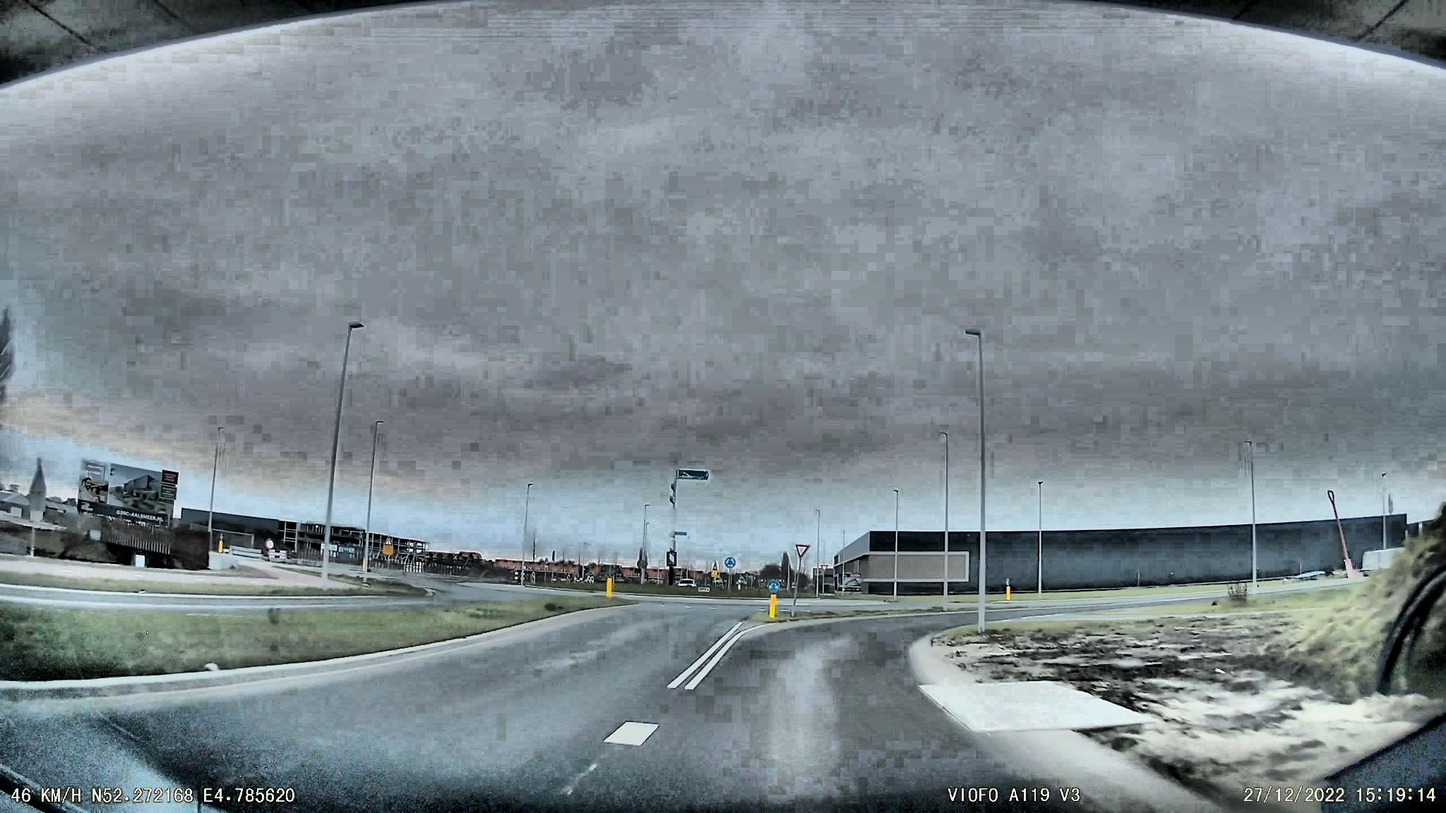Roads: (0, 602, 1264, 813)
